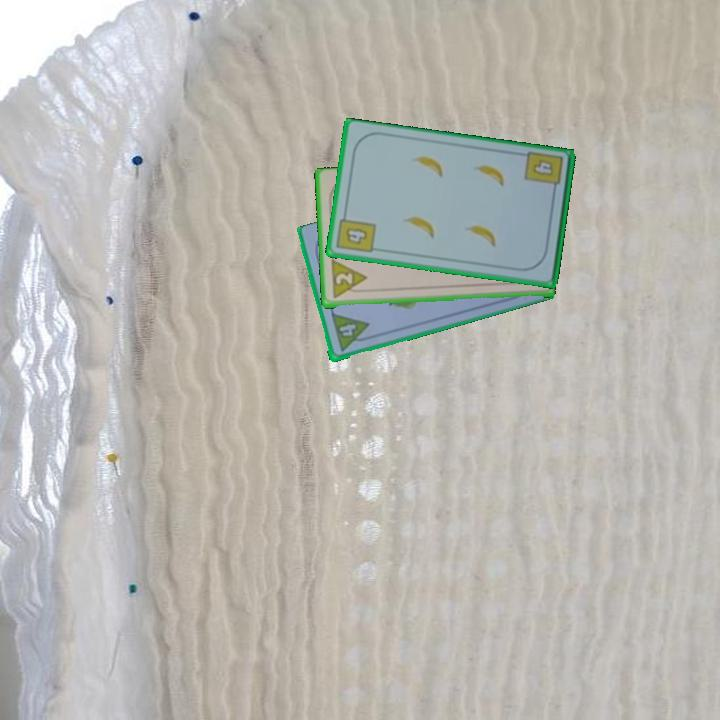2p: (328, 258, 369, 302)
4b: (333, 209, 379, 256), (521, 149, 566, 197)
4p: (327, 311, 374, 355)
